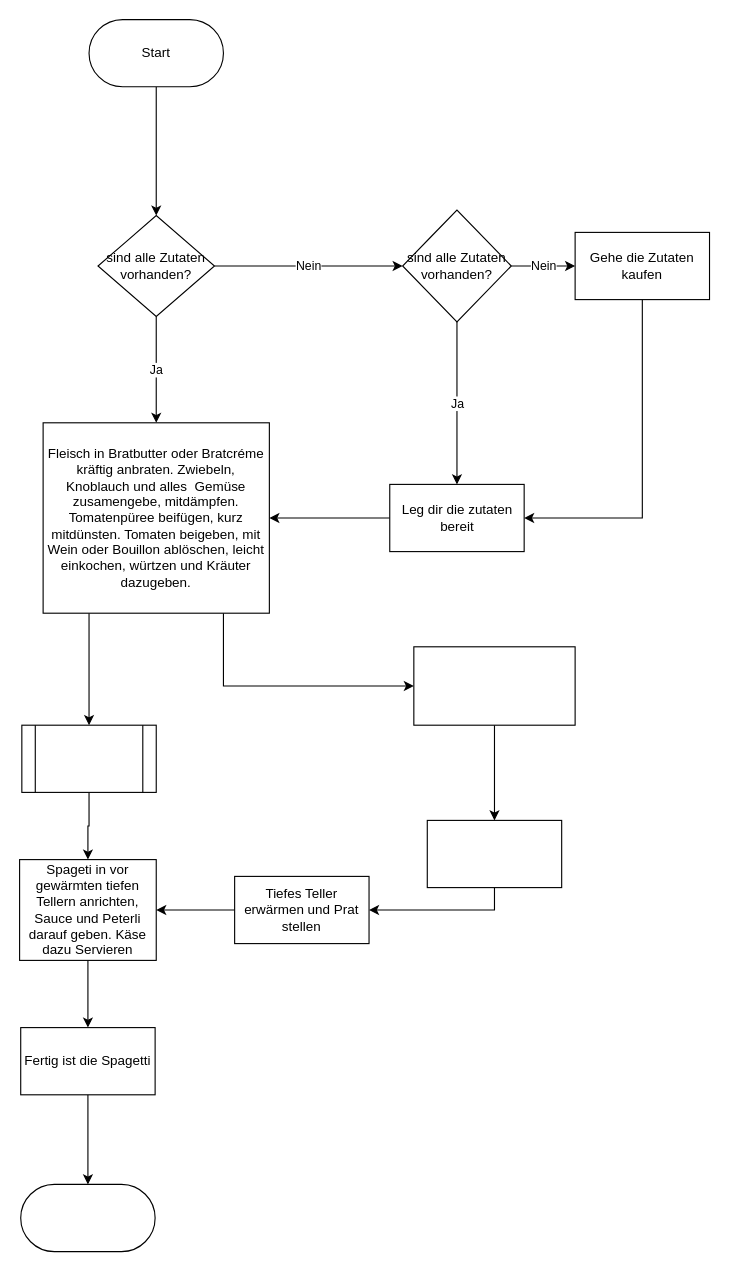
Some shapes in this 729 by 1271 pixel diagram are drawn without their labels. The shapes that lost their labels are listed below. From the top down, each one's box as (x1, y1, x2, y2) in pixels, then its label:
(413, 646, 575, 725): Spagetti in siedendem Salzwasser al dente garen, abgiessen, abdampfen lassen.
(21, 724, 156, 792): Für 45 Minuten Köcheln
(426, 819, 562, 888): Butterunter die Spagetti mischen
(20, 1183, 155, 1252): Stop
